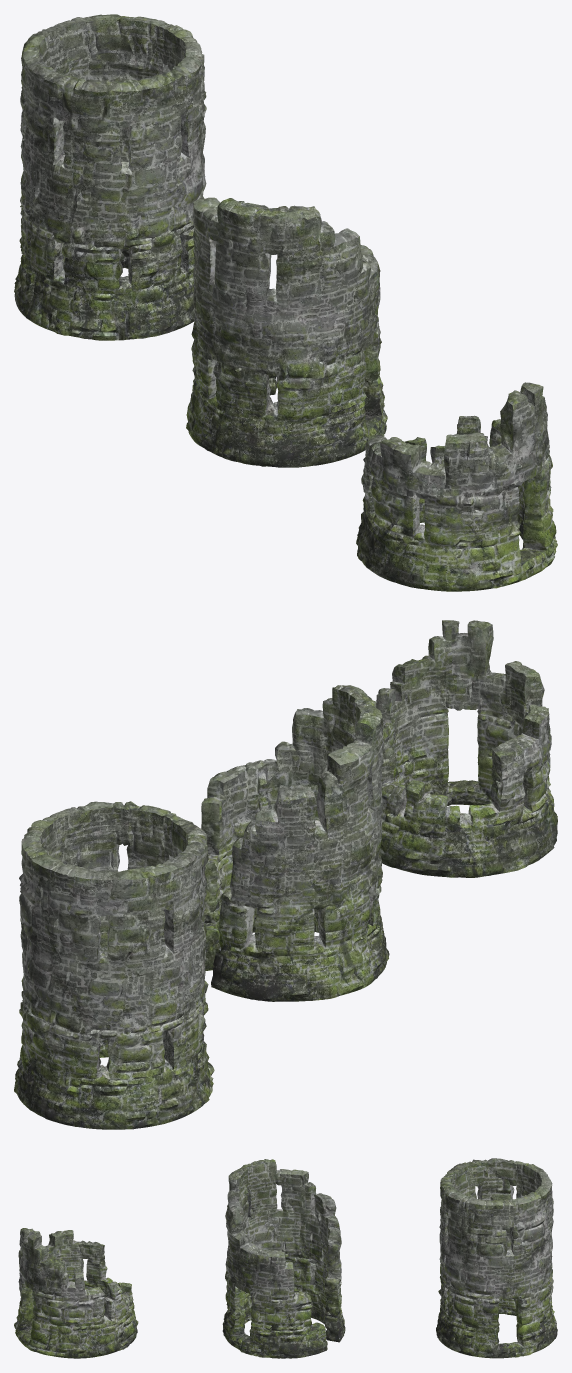
Rendered from pack_of_old_towers_in_ruins.glb.
3 renders of one model, top to bottom at view 1: azimuth 30°, elevation 25°; view 2: azimuth 150°, elevation 25°; view 3: azimuth 270°, elevation 25°, orthographic. The views are drawn at different scales.
Visible parts, largest first — view 1: Object_3, Object_2, Object_4; view 2: Object_3, Object_2, Object_4; view 3: Object_3, Object_2, Object_4.
Part boxes in pixels (left/top/right/bottom): Object_3: left=14, top=14, right=206, bottom=340; Object_2: left=186, top=197, right=387, bottom=467; Object_4: left=356, top=382, right=557, bottom=591; Object_3: left=14, top=801, right=214, bottom=1129; Object_2: left=201, top=685, right=389, bottom=1001; Object_4: left=376, top=620, right=557, bottom=877; Object_3: left=436, top=1158, right=557, bottom=1358; Object_2: left=222, top=1159, right=345, bottom=1358; Object_4: left=14, top=1228, right=138, bottom=1358.
Bounding box in the file's own units: 46 × 63.24 × 201.
3 materials, 3 textured.
